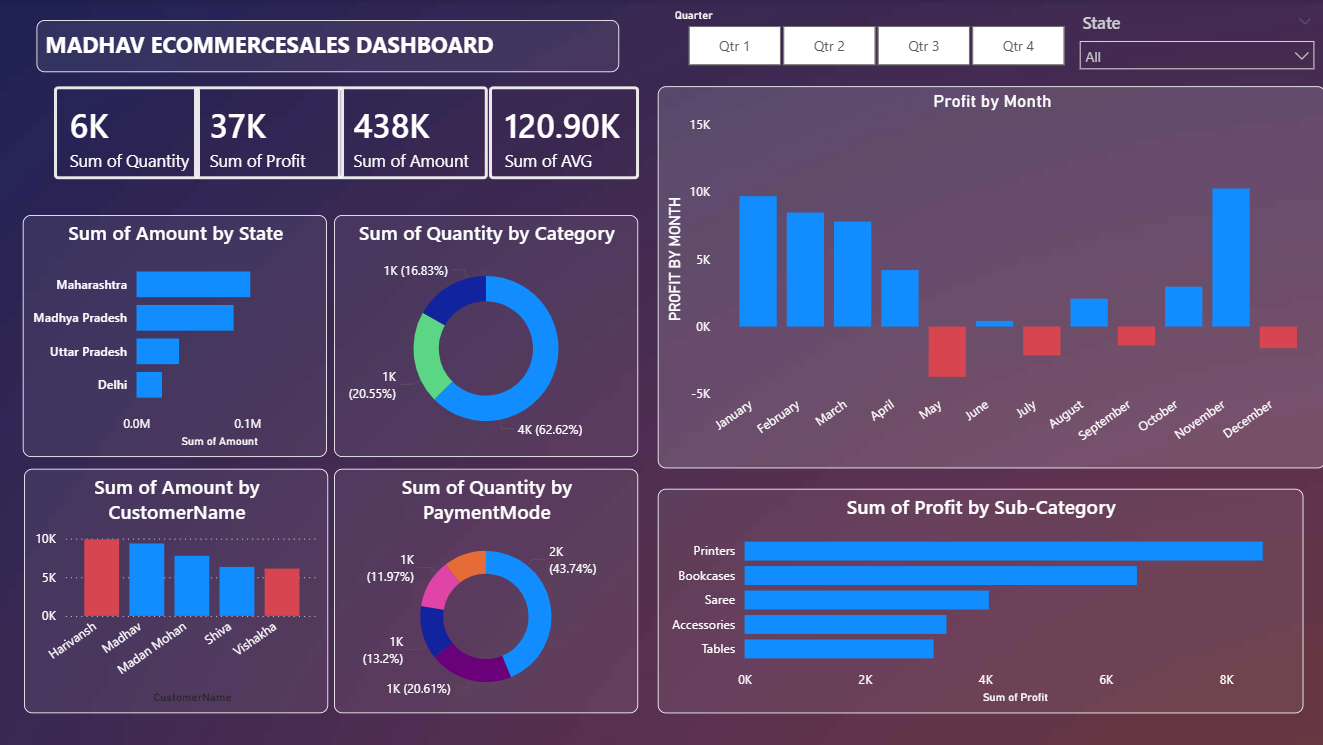

The dashboard page shown, as its layout file describes it:
{"tool":"powerbi","page":{"name":"Page 1","canvas":[1280,720],"ordinal":0},"visuals":[{"type":"textbox","box":[35.7,19.2,562.6,50.8],"z":0},{"type":"columnChart","title":"Profit by Month","fields":{"Category":["Orders.Order Date.Variation.Date Hierarchy.Month"],"Y":["Details (1).Profit"]},"box":[635.3,83.7,644.9,369.1],"z":1000},{"type":"barChart","fields":{"Category":["Details (1).Sub-Category"],"Y":["Details (1).Profit"]},"box":[635.3,472,623,216.8],"z":2000},{"type":"donutChart","fields":{"Category":["Details (1).Category"],"Y":["Details (1).Quantity"]},"box":[323.8,207.2,293.7,233.3],"z":3000},{"type":"donutChart","fields":{"Y":["Details (1).Quantity"],"Category":["Details (1).PaymentMode"]},"box":[323.8,452.8,293.7,236],"z":4000},{"type":"cardVisual","fields":{"Data":["Details (1).Amount"]},"box":[310.1,65.9,179.8,124.9],"z":5000},{"type":"cardVisual","fields":{"Data":["Details (1).Quantity"]},"box":[35.7,65.9,175.6,124.9],"z":6000},{"type":"cardVisual","fields":{"Data":["Details (1).Profit"]},"box":[171.5,65.9,179.8,124.9],"z":7000},{"type":"cardVisual","fields":{"Data":["Details (1).AVG"]},"box":[455.6,65.9,179.8,124.9],"z":8000},{"type":"clusteredBarChart","fields":{"Category":["Orders.State"],"Y":["Details (1).Amount"]},"box":[23.3,207.2,293.7,233.3],"z":9000},{"type":"columnChart","fields":{"Category":["Orders.CustomerName"],"Y":["Details (1).Amount"]},"box":[24.7,452.8,293.7,236],"z":10000},{"type":"slicer","fields":{"Values":["Orders.Order Date.Variation.Date Hierarchy.Quarter"]},"box":[639.5,4.1,413,65.9],"z":11000},{"type":"slicer","fields":{"Values":["Orders.State"]},"box":[1033.3,5.5,247,63.1],"z":12000}]}

Visuals, with their boxes in screenshot pixels (x1, y1, x2, y2), scaled from the page's 1280x720 canvas onto the 1323x745 screenshot:
textbox: <region>37, 20, 618, 72</region>
"Profit by Month" columnChart: <region>657, 87, 1322, 469</region>
barChart - Details (1).Sub-Category x Details (1).Profit: <region>657, 488, 1301, 713</region>
donutChart - Details (1).Category x Details (1).Quantity: <region>335, 214, 638, 456</region>
donutChart - Details (1).Quantity x Details (1).PaymentMode: <region>335, 469, 638, 713</region>
cardVisual - Details (1).Amount: <region>321, 68, 506, 197</region>
cardVisual - Details (1).Quantity: <region>37, 68, 218, 197</region>
cardVisual - Details (1).Profit: <region>177, 68, 363, 197</region>
cardVisual - Details (1).AVG: <region>471, 68, 657, 197</region>
clusteredBarChart - Orders.State x Details (1).Amount: <region>24, 214, 328, 456</region>
columnChart - Orders.CustomerName x Details (1).Amount: <region>26, 469, 329, 713</region>
slicer - Orders.Order Date.Variation.Date Hierarchy.Quarter: <region>661, 4, 1088, 72</region>
slicer - Orders.State: <region>1068, 6, 1322, 71</region>
